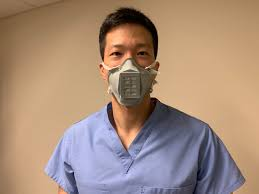mask: (100, 13, 156, 105)
